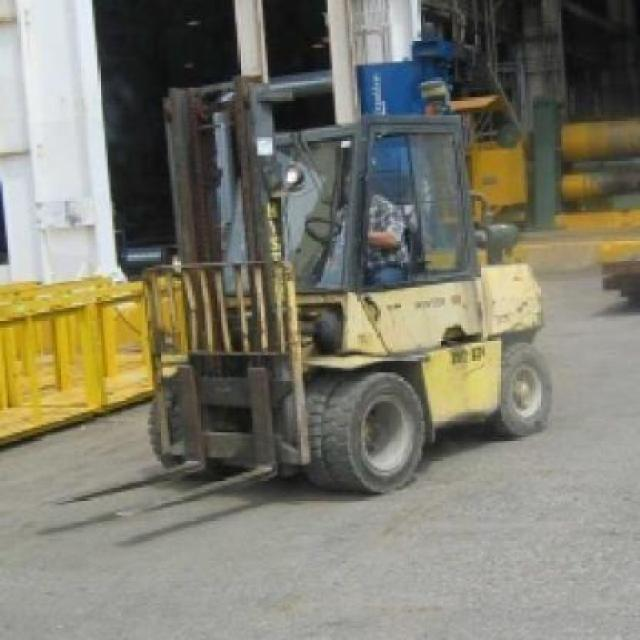forklift: (142, 58, 555, 494)
